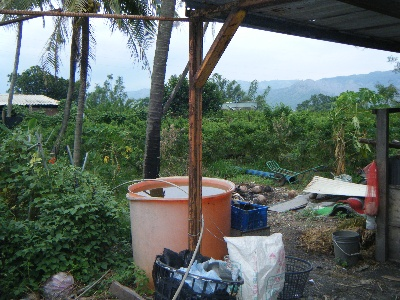bucket: (126, 174, 235, 297), (332, 229, 363, 267)
plastic_bag: (224, 232, 287, 300)
